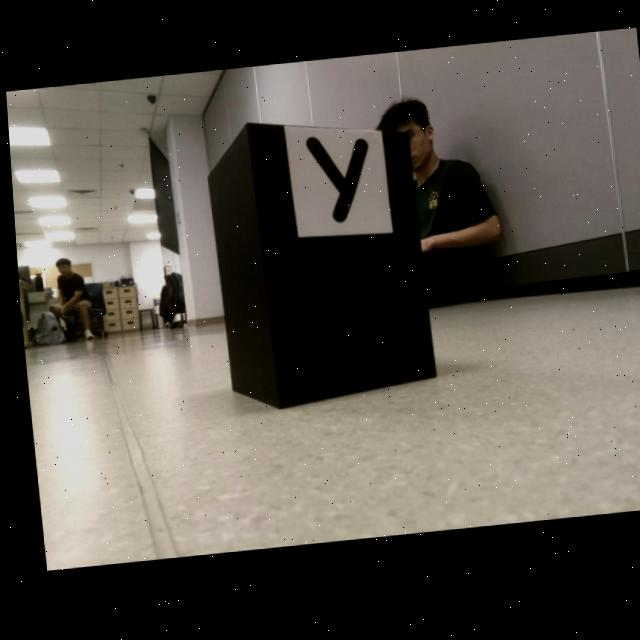Y: (304, 142, 365, 226)
